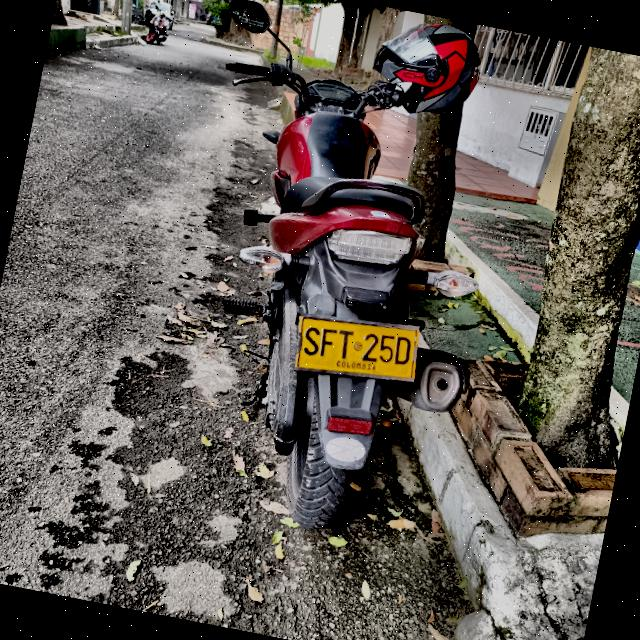plate: (294, 312, 420, 383)
